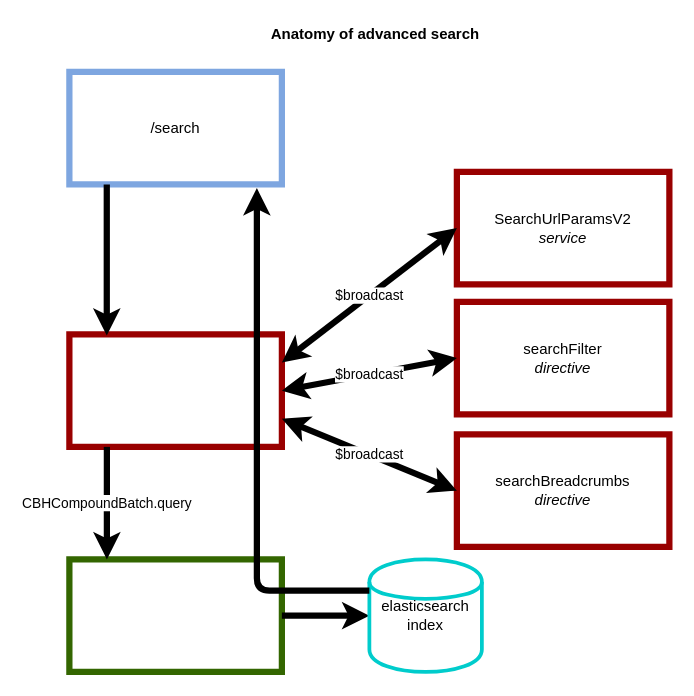
Some shapes in this 694 by 696 pixel diagram are drawn without their labels. The shapes that lost their labels are listed below. From the top down, each one's centre as x and y in pixels, then its label:
At point 175,390: "Compoundbatchv2Ctrl".
At point 175,615: "Web Service cbh_compound_batches_v2".
